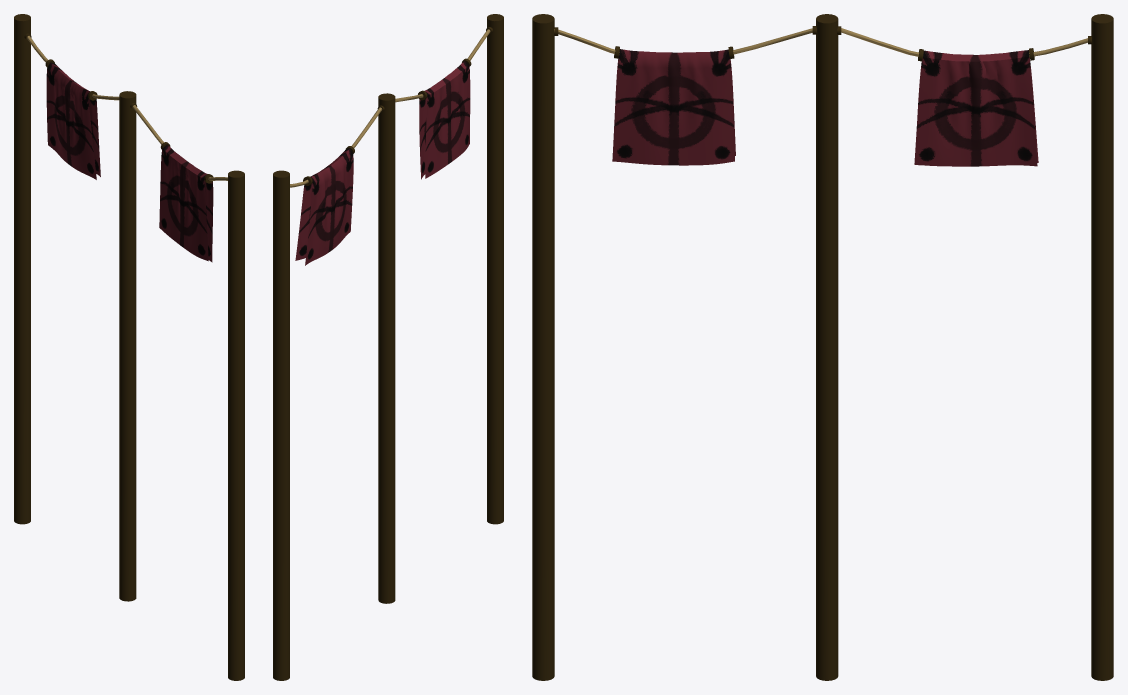
File: flag2.fbx
3 renders of one model, left to right at view 1: azimuth 30°, elevation 25°; view 2: azimuth 150°, elevation 25°; view 3: azimuth 270°, elevation 25°, orthographic. The views are drawn at different scales.
Visible parts, largest first — view 1: Cylinder_1, Cylinder, Cylinder_2, Plane, Plane_2_3, Sweep; view 2: Cylinder_1, Cylinder_2, Cylinder, Plane_2_3, Plane, Sweep; view 3: Cylinder, Cylinder_2, Cylinder_1, Plane, Plane_2_3, Sweep.
Boxes of the visible parts, left/top/right/bottom form: Cylinder_1: left=119, top=91, right=136, bottom=601; Cylinder: left=228, top=170, right=244, bottom=680; Cylinder_2: left=14, top=14, right=30, bottom=524; Plane: left=159, top=144, right=213, bottom=262; Plane_2_3: left=46, top=62, right=100, bottom=179; Sweep: left=27, top=35, right=227, bottom=180; Cylinder_1: left=378, top=93, right=395, bottom=603; Cylinder_2: left=273, top=170, right=289, bottom=680; Cylinder: left=487, top=14, right=503, bottom=524; Plane_2_3: left=295, top=148, right=353, bottom=265; Plane: left=419, top=61, right=470, bottom=179; Sweep: left=290, top=29, right=490, bottom=187; Cylinder: left=532, top=14, right=554, bottom=680; Cylinder_2: left=1091, top=14, right=1113, bottom=680; Cylinder_1: left=816, top=14, right=838, bottom=680; Plane: left=612, top=49, right=735, bottom=165; Plane_2_3: left=914, top=50, right=1038, bottom=166; Sweep: left=554, top=28, right=1087, bottom=56.
Size of the model in its own units: 11.38 by 297 by 238.
3 materials, 1 textured.
